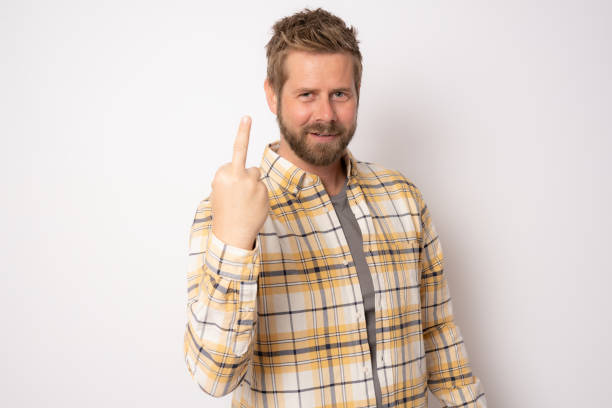insulting_gesture: (211, 113, 271, 240)
